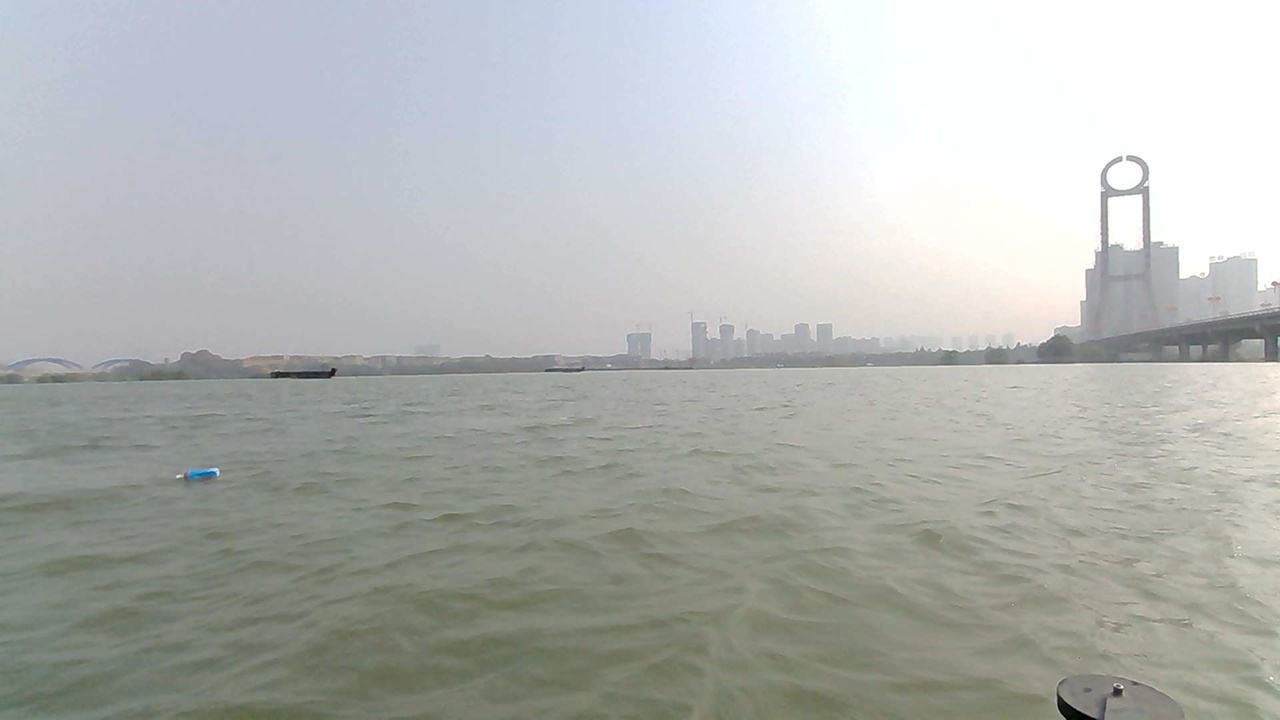bottle: (172, 464, 227, 490)
